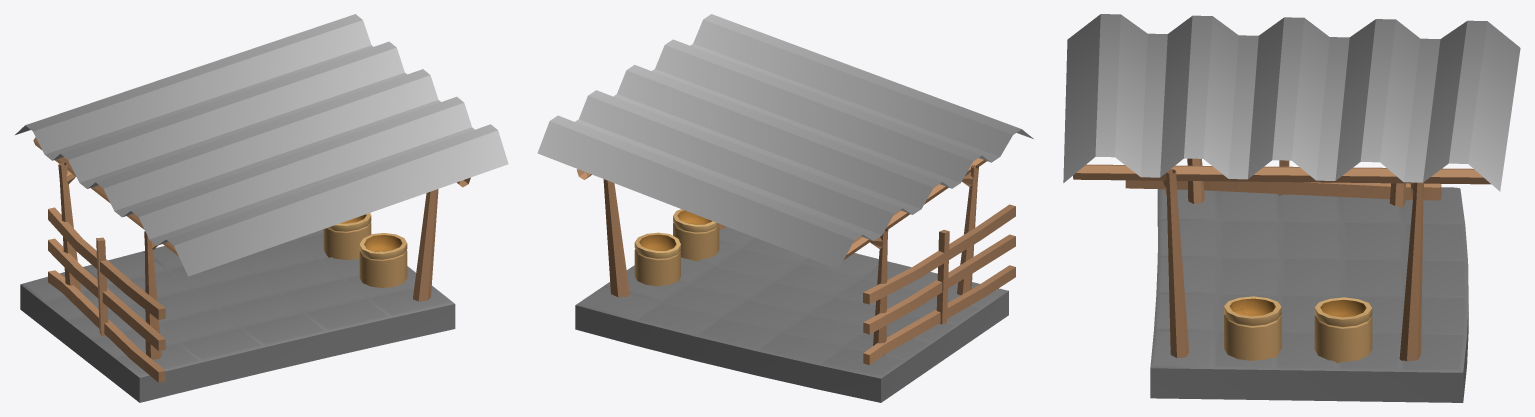
Rendered from goal ghor fbx.fbx.
3 renders of one model, left to right at view 1: azimuth 30°, elevation 25°; view 2: azimuth 150°, elevation 25°; view 3: azimuth 270°, elevation 25°, orthographic. The views are drawn at different scales.
Parts seen in each view (by area): view 1: polySurface27; view 2: polySurface27; view 3: polySurface27.
Part boxes in pixels (x1,y1,x2,y2): polySurface27: (15,14,508,402); polySurface27: (537,14,1033,402); polySurface27: (1063,14,1520,402).
Bounding box in the file's own units: 2104 × 1228 × 2008.
